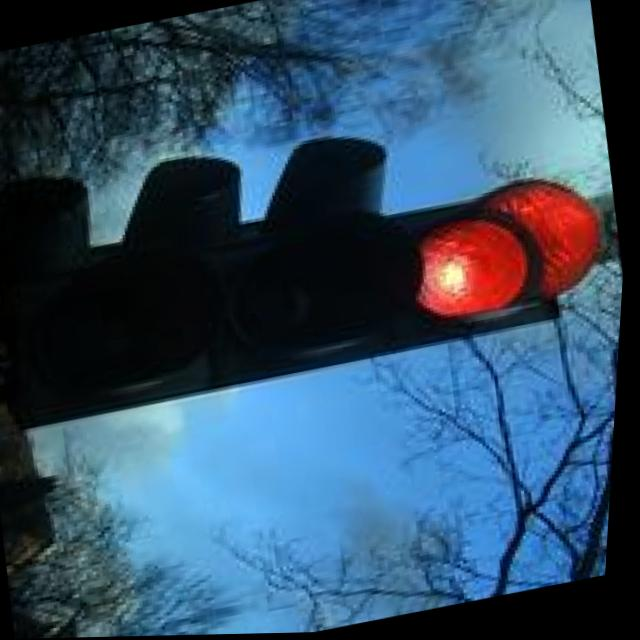red_light: (350, 148, 564, 408)
